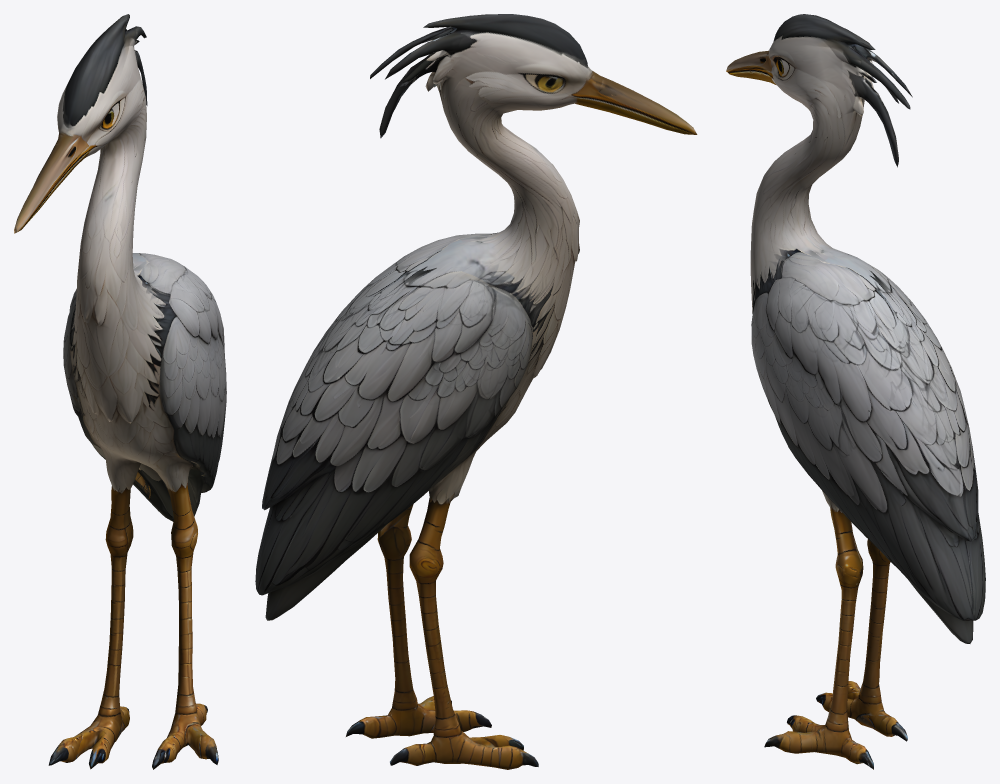
File: Grey Heron Model.fbx
3 views of the same model, side by side, from view 1: azimuth 30°, elevation 25°; view 2: azimuth 150°, elevation 25°; view 3: azimuth 270°, elevation 25° (orthographic). The views are drawn at different scales.
Parts seen in each view (by area): view 1: input; view 2: input; view 3: input.
Part boxes in pixels (x1,y1,x2,y2): input: (14, 14, 226, 769); input: (255, 14, 697, 769); input: (726, 14, 985, 769).
Bounding box in the file's own units: 44.82 × 99.91 × 33.95.
1 material, 1 textured.
